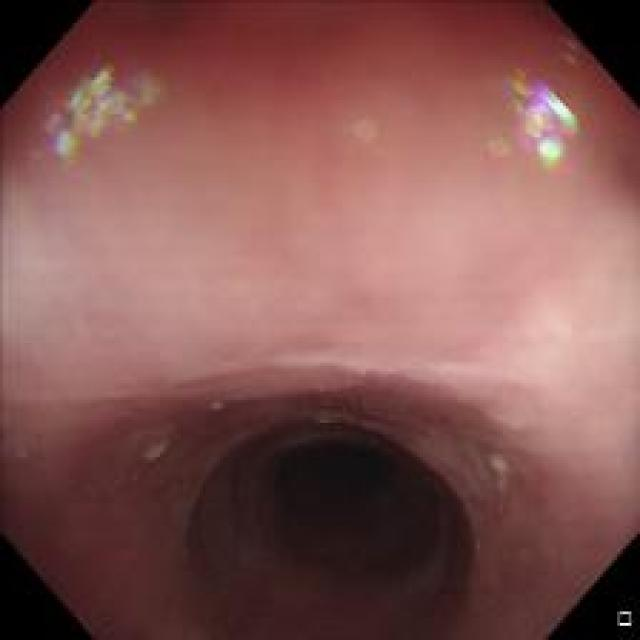color misalignment: (19, 38, 171, 185), (480, 55, 585, 179), (339, 102, 386, 155)
contrast: (59, 360, 561, 630)
